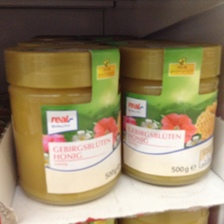honey: (2, 44, 125, 210), (123, 41, 223, 185)
